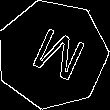M_SW: (20, 22, 85, 87)
